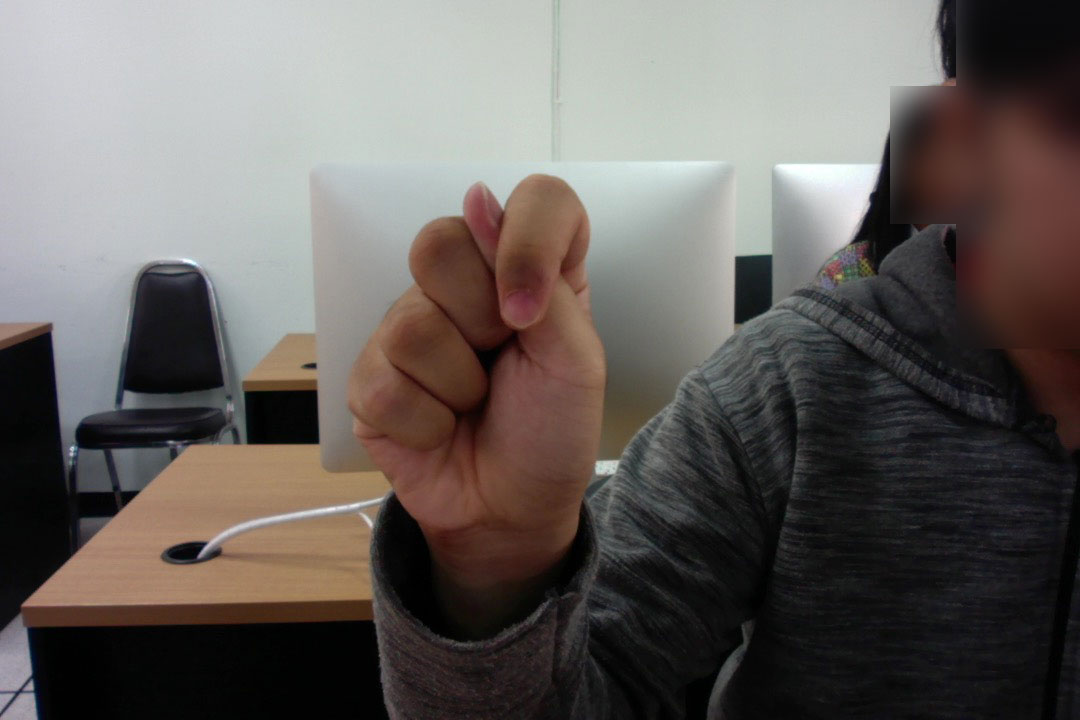tor: (343, 170, 607, 571)
